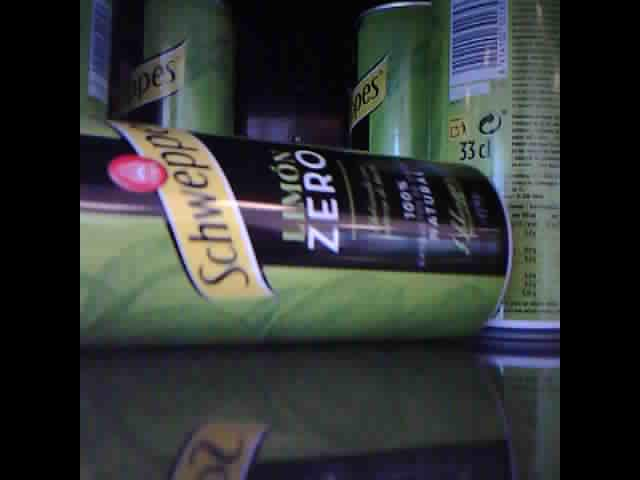schweppes: (80, 113, 513, 345), (435, 1, 559, 332), (124, 1, 237, 142), (351, 2, 427, 168), (82, 7, 115, 117)
